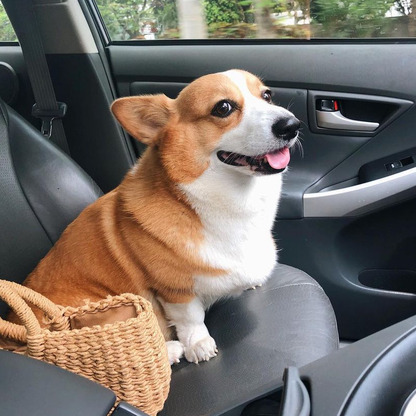Corgi: (66, 52, 320, 353)
